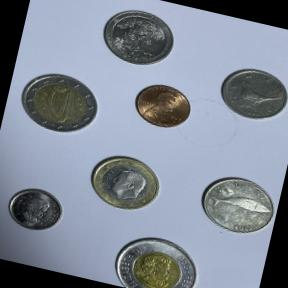coin: (4, 61, 107, 148), (183, 162, 284, 246), (100, 217, 210, 288), (76, 144, 172, 222), (89, 0, 184, 77), (125, 72, 202, 138), (0, 177, 70, 238)
